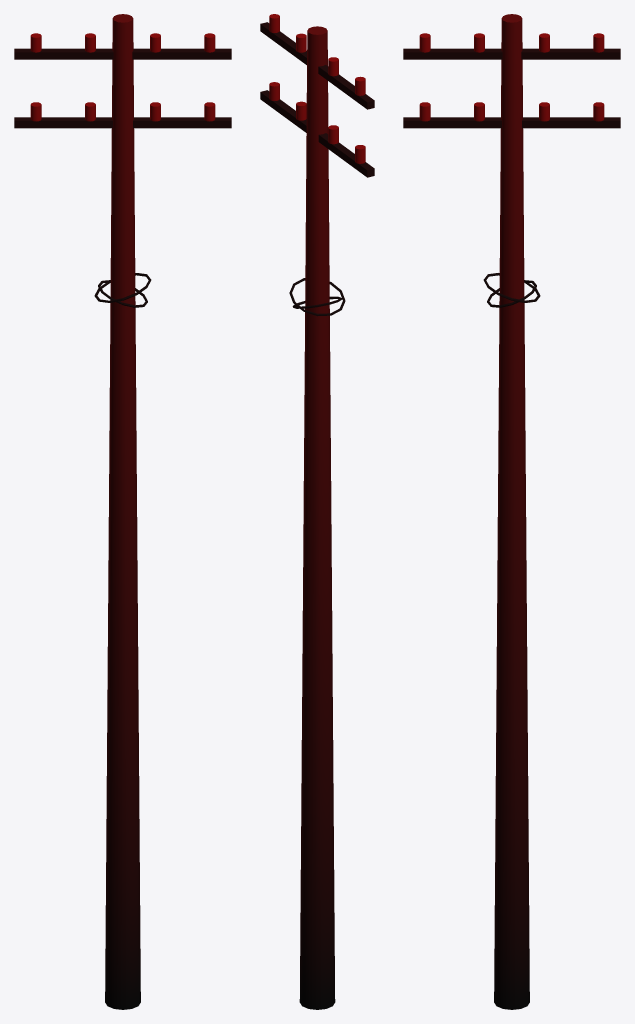
File: cot_dien_12m.mid.glb
3 renders of one model, left to right at view 1: azimuth 90°, elevation 25°; view 2: azimuth 210°, elevation 25°; view 3: azimuth 270°, elevation 25°, orthographic.
Visible parts, largest first — view 1: cot_dien_12m; view 2: cot_dien_12m; view 3: cot_dien_12m.
Boxes of the visible parts, x1,y1,x2,y2 form: cot_dien_12m: (14, 14, 231, 1009); cot_dien_12m: (260, 14, 374, 1009); cot_dien_12m: (403, 14, 620, 1009).
Size of the model in its own units: 0.5238 by 10 by 2.
